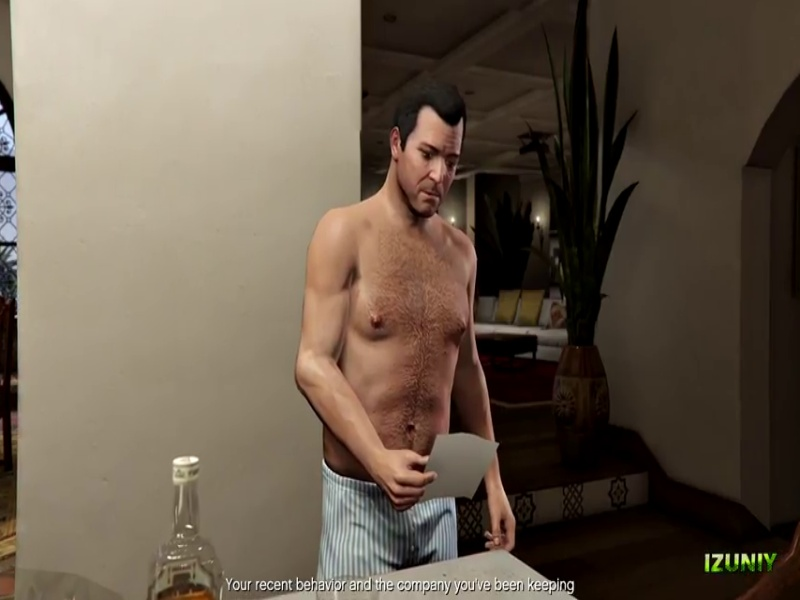human: (297, 92, 492, 546)
